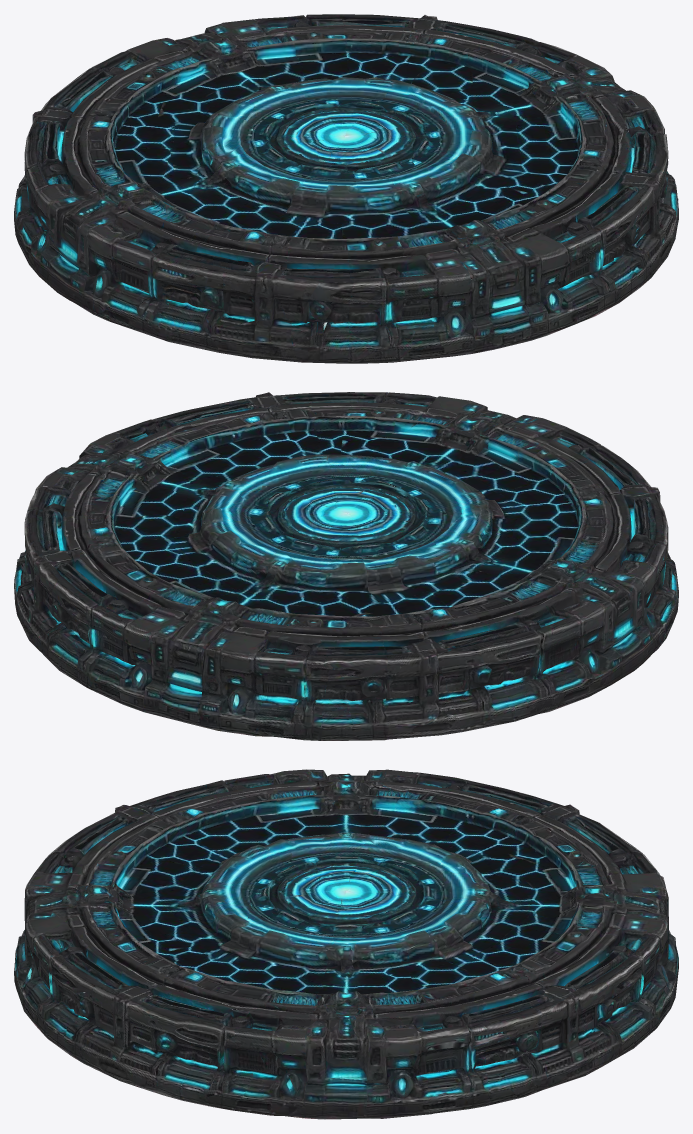
Rendered from garvis_floor_master.glb.
3 views of the same model, one above another, from view 1: azimuth 30°, elevation 25°; view 2: azimuth 150°, elevation 25°; view 3: azimuth 270°, elevation 25° (orthographic).
Bounding box in the file's own units: 1.9 × 0.3104 × 1.9.
Materials: 1 (1 with a texture image).
